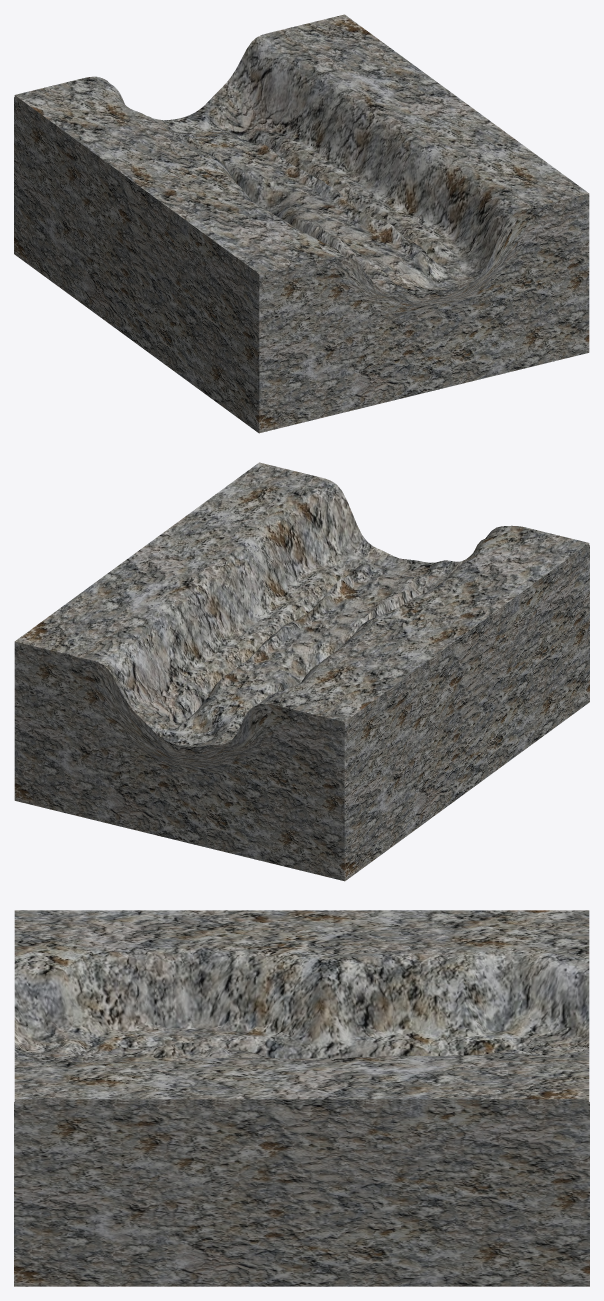
Rendered from 冰川谷.gltf.
The picture shows the model from 3 angles, top to bottom: view 1: azimuth 30°, elevation 25°; view 2: azimuth 150°, elevation 25°; view 3: azimuth 270°, elevation 25°; orthographic projection. The views are drawn at different scales.
Visible parts, largest first — view 1: node_bcgmount_-123772, node_bcgcoat_-123790; view 2: node_bcgmount_-123772, node_bcgcoat_-123790; view 3: node_bcgmount_-123772, node_bcgcoat_-123790.
Boxes of the visible parts, bbox=[...] form: node_bcgmount_-123772: bbox=[14, 14, 589, 432]; node_bcgcoat_-123790: bbox=[14, 97, 259, 433]; node_bcgmount_-123772: bbox=[14, 462, 589, 880]; node_bcgcoat_-123790: bbox=[344, 545, 589, 881]; node_bcgmount_-123772: bbox=[14, 910, 589, 1101]; node_bcgcoat_-123790: bbox=[14, 1102, 589, 1286].
Bounding box in the file's own units: 1.69 × 0.7749 × 2.16.
